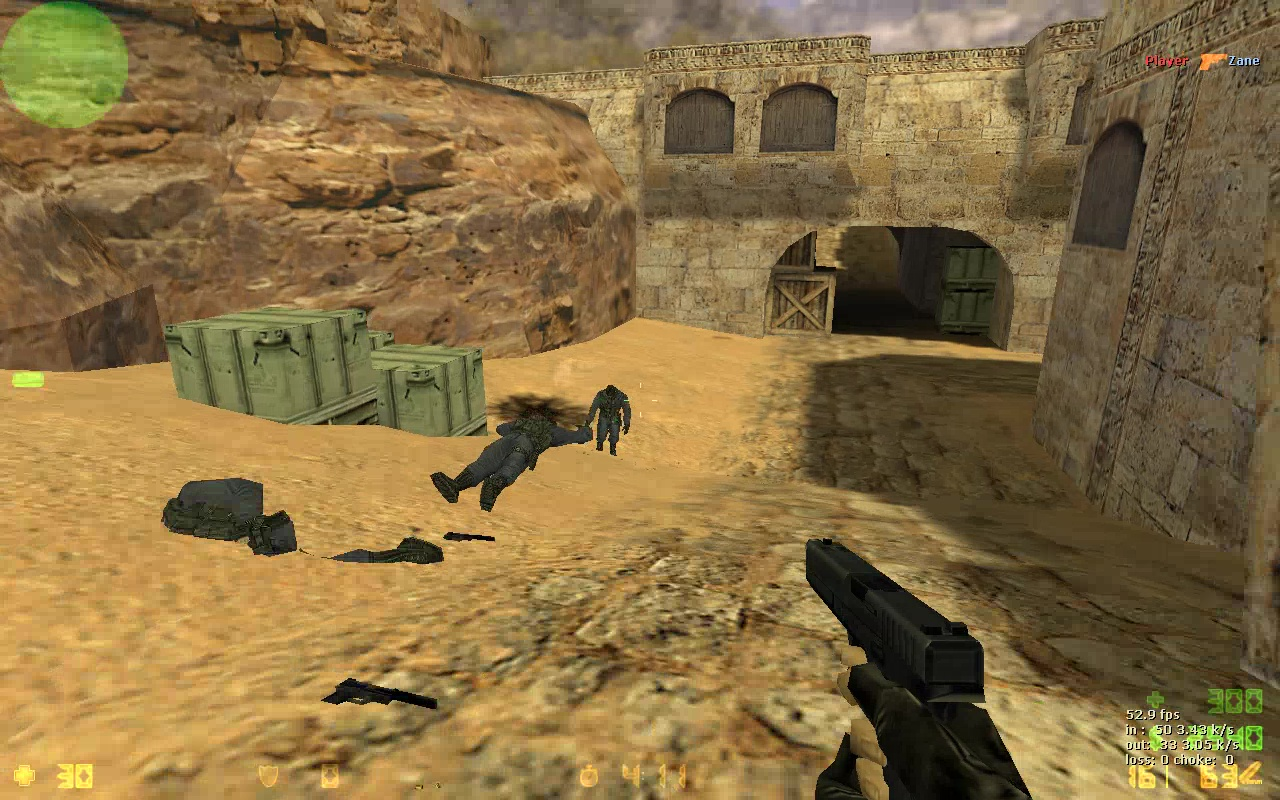ct: (588, 384, 635, 454)
dead: (421, 415, 592, 504)
